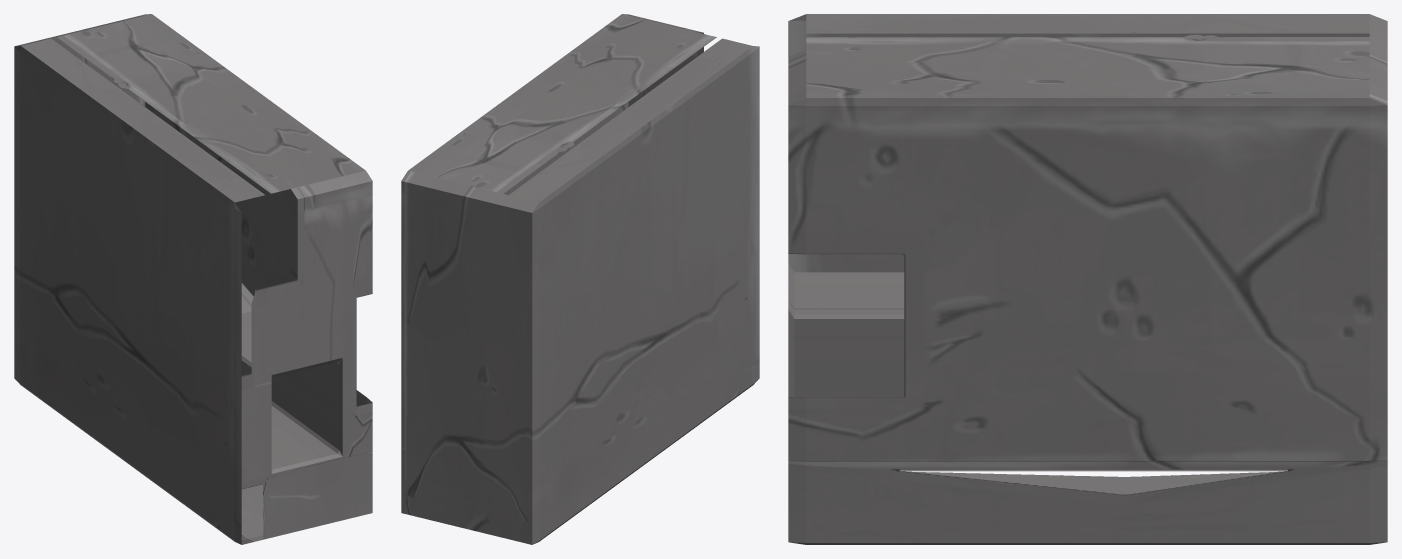
The model's file is leftRock.fbx.
3 renders of one model, left to right at view 1: azimuth 30°, elevation 25°; view 2: azimuth 150°, elevation 25°; view 3: azimuth 270°, elevation 25°, orthographic. The views are drawn at different scales.
Parts seen in each view (by area): view 1: Cube.002; view 2: Cube.002; view 3: Cube.002.
Part boxes in pixels (bbox=[...]): Cube.002: bbox=[14, 14, 372, 544]; Cube.002: bbox=[401, 14, 759, 544]; Cube.002: bbox=[788, 14, 1387, 544].
Bounding box in the file's own units: 4.03 × 9.84 × 11.96.
